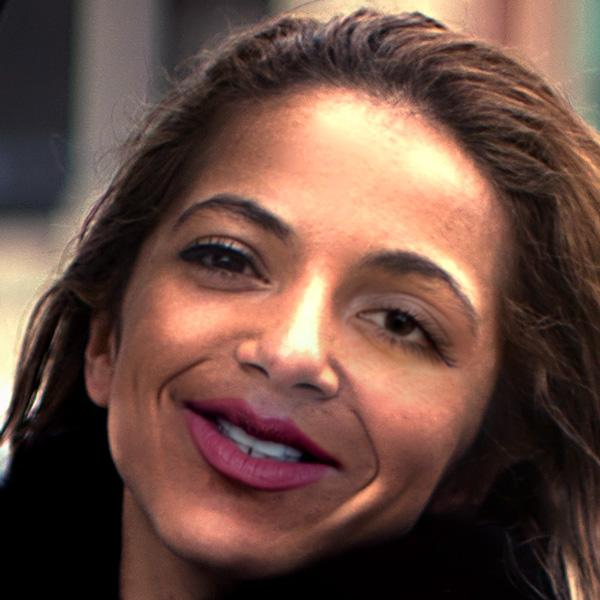Eyes: (341, 279, 455, 368), (174, 222, 279, 294)
